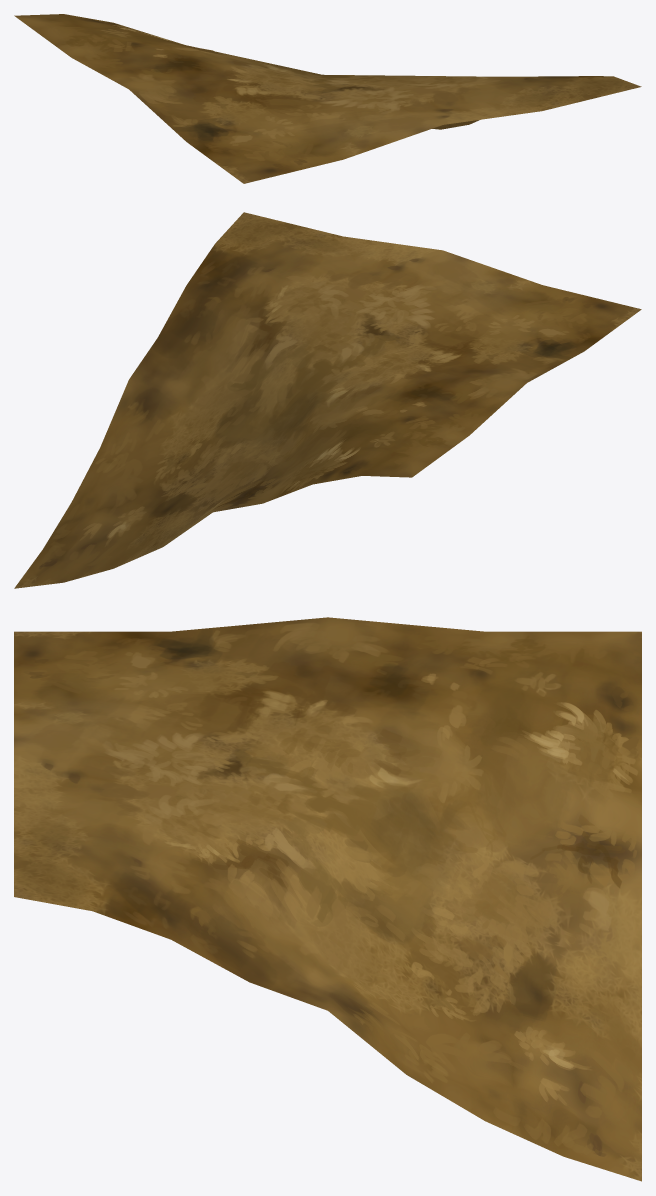
The model's file is Slope_Incline_007.fbx.
The picture shows the model from 3 angles, top to bottom: view 1: azimuth 30°, elevation 25°; view 2: azimuth 150°, elevation 25°; view 3: azimuth 270°, elevation 25°; orthographic projection. The views are drawn at different scales.
Parts seen in each view (by area): view 1: Slope_incline_007; view 2: Slope_incline_007; view 3: Slope_incline_007.
Boxes of the visible parts, <box> form: Slope_incline_007: <box>14,14,641,183</box>; Slope_incline_007: <box>14,212,641,588</box>; Slope_incline_007: <box>14,617,641,1181</box>.
Bounding box in the file's own units: 10 × 5.25 × 10.
Materials: 1 (1 with a texture image).
